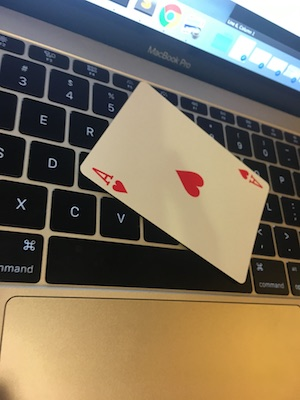AceOfHearts: (74, 80, 272, 288)
